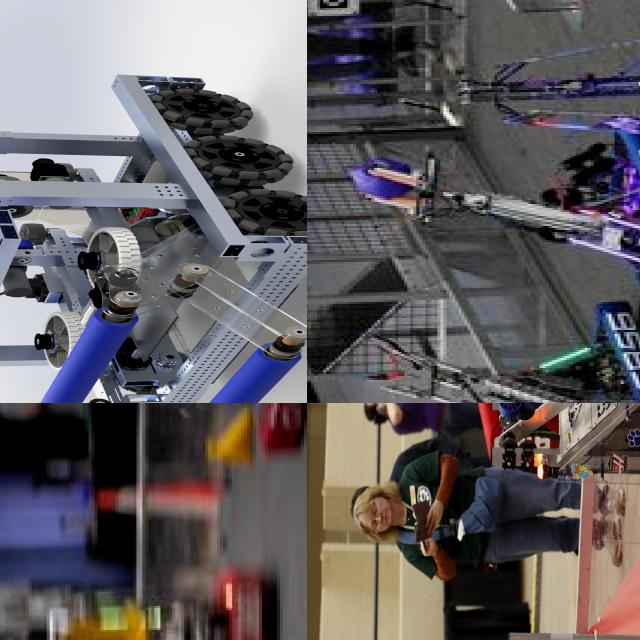FRC-Robots: (0, 50, 307, 403), (368, 147, 640, 277), (433, 403, 640, 548), (361, 299, 640, 403), (449, 0, 640, 135), (32, 558, 285, 640), (19, 578, 307, 640), (196, 403, 307, 463)
